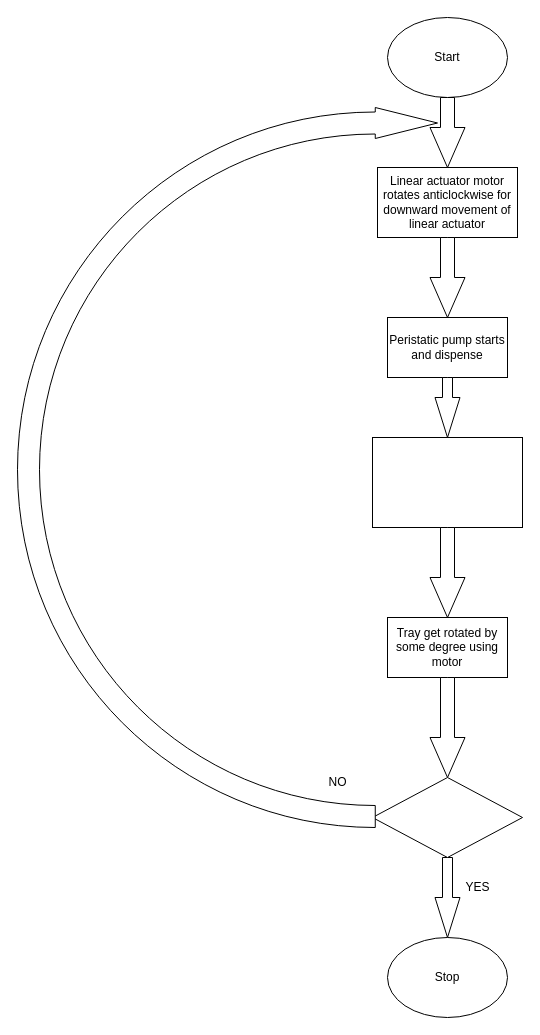
Some shapes in this 540 by 1035 pixel diagram are drawn without their labels. Each missing label, with the centre of its shape:
"All Petri dish are filled" belongs at point (447, 817).
"Linear actuator motor rotates clockwise for upward movement of linear actuator" belongs at point (447, 482).
